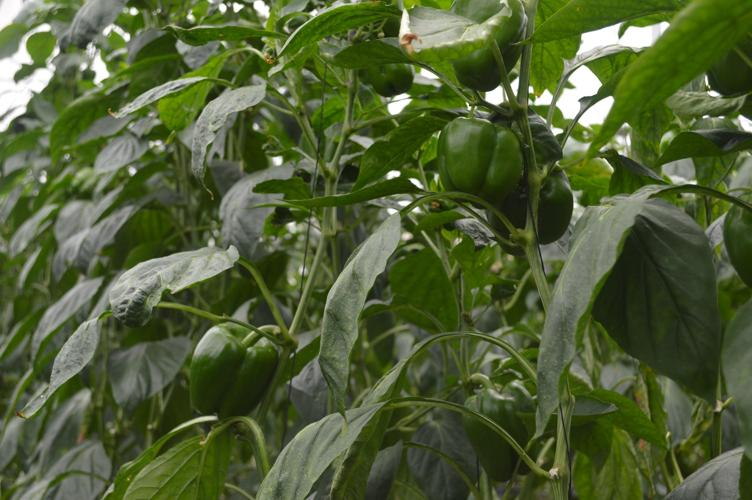BellPepper: (179, 318, 292, 433), (427, 110, 525, 208), (490, 158, 580, 257)
